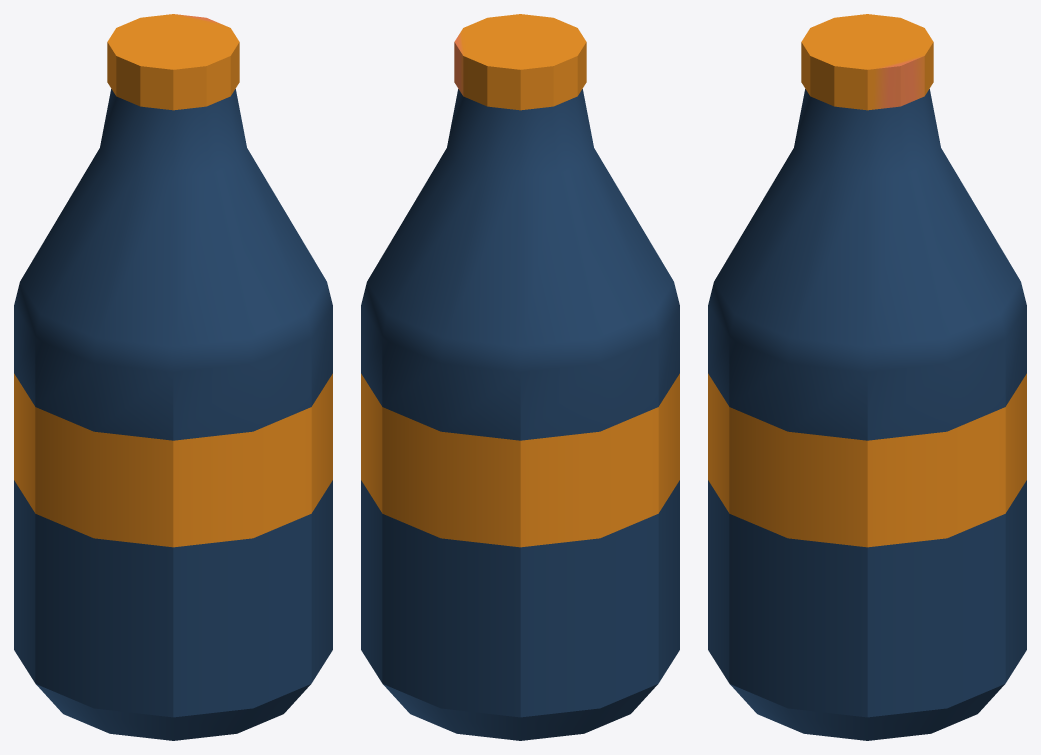
File: Ürün59.fbx
The picture shows the model from 3 angles, left to right: view 1: azimuth 30°, elevation 25°; view 2: azimuth 150°, elevation 25°; view 3: azimuth 270°, elevation 25°; orthographic projection.
Visible parts, largest first — view 1: pCylinder35; view 2: pCylinder35; view 3: pCylinder35.
Part boxes in pixels (bbox=[...]): pCylinder35: bbox=[14, 14, 332, 740]; pCylinder35: bbox=[361, 14, 679, 740]; pCylinder35: bbox=[708, 14, 1026, 740].
Size of the model in its own units: 8.52 by 19.04 by 8.52.
